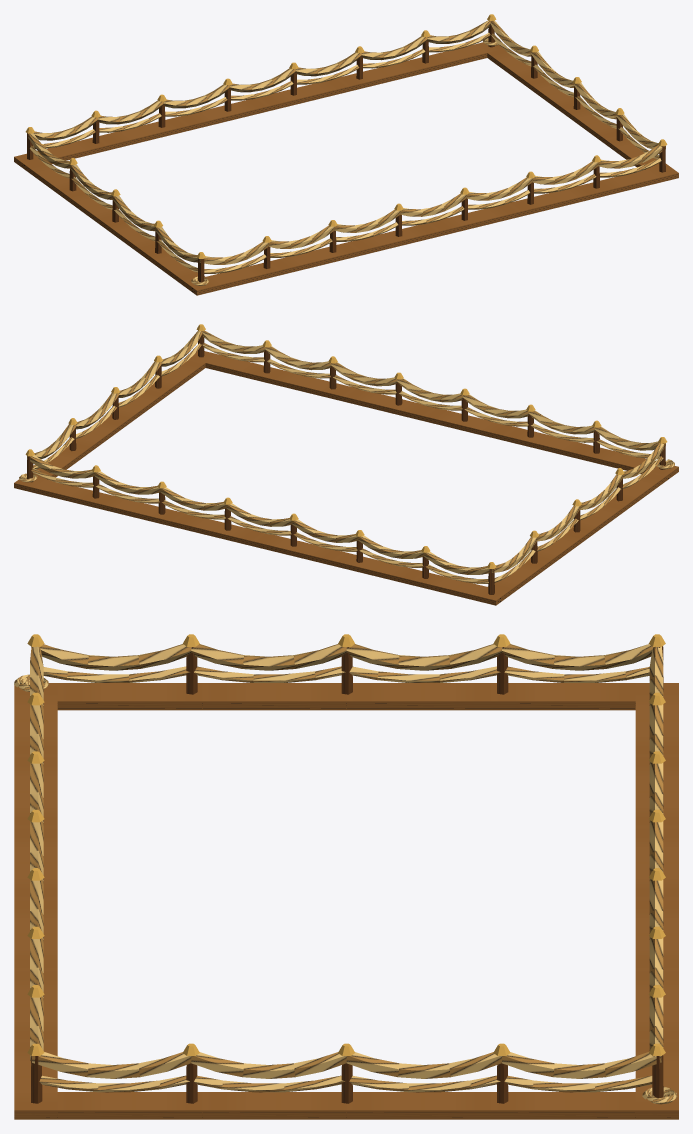
Rendered from Rim_Rope.fbx.
3 renders of one model, top to bottom at view 1: azimuth 30°, elevation 25°; view 2: azimuth 150°, elevation 25°; view 3: azimuth 270°, elevation 25°, orthographic. The views are drawn at different scales.
Parts seen in each view (by area): view 1: Rim_Rope; view 2: Rim_Rope; view 3: Rim_Rope.
Boxes of the visible parts, box(x1,y1,x2,y2) form: Rim_Rope: box(14, 14, 678, 295); Rim_Rope: box(14, 324, 678, 605); Rim_Rope: box(14, 634, 678, 1119).
Size of the model in its own units: 3.5 by 0.25 by 2.3.
Materials: 1 (1 with a texture image).
